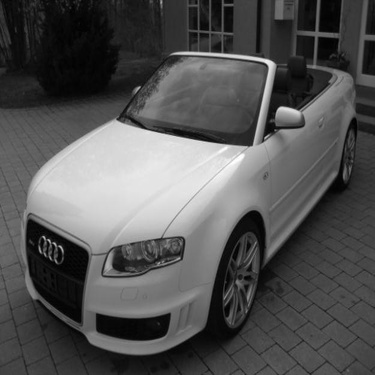car: (19, 43, 363, 359)
